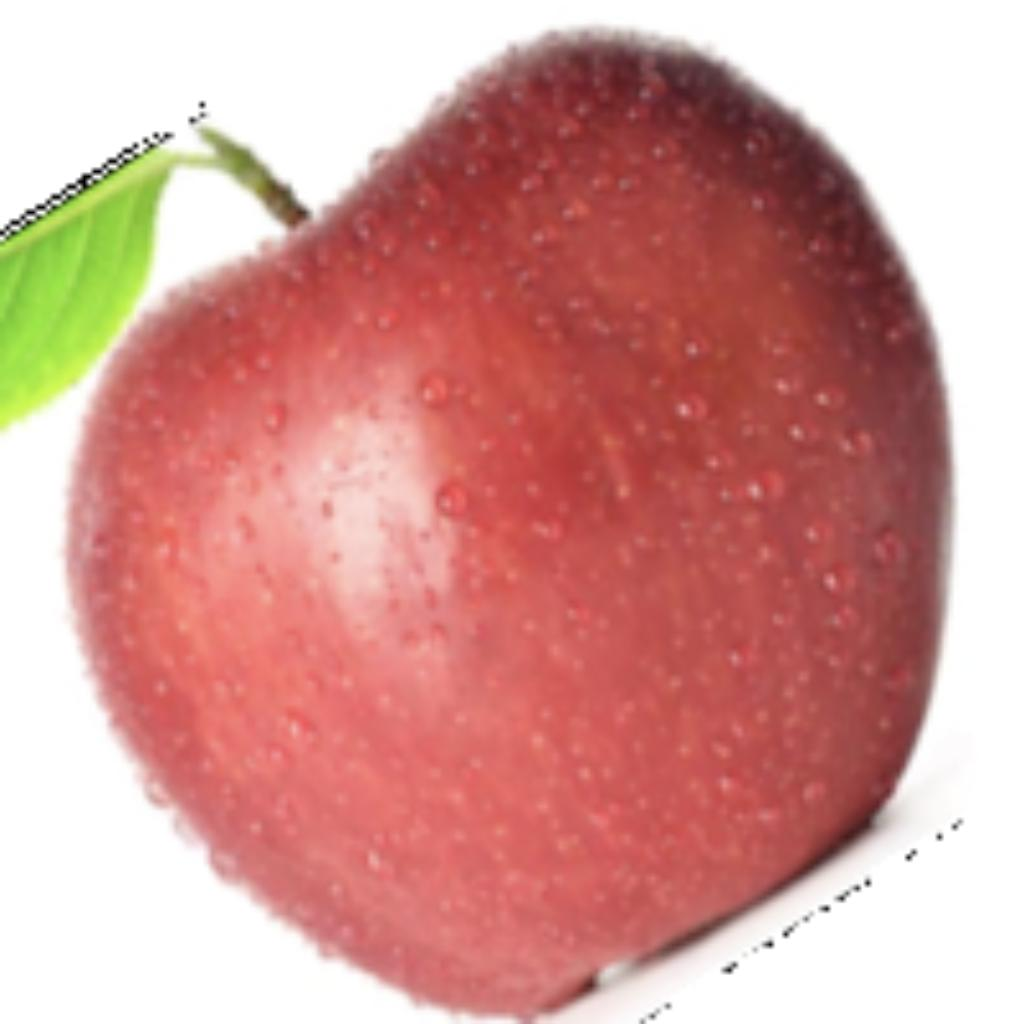apple: (0, 15, 957, 1019)
